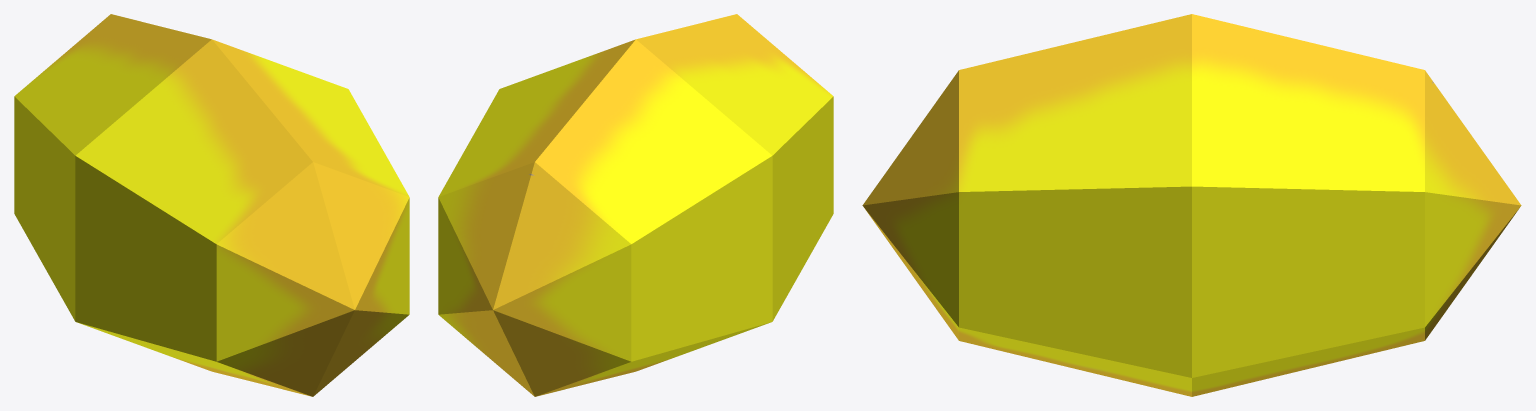
The model's file is AlbatorShootblend.fbx.
The picture shows the model from 3 angles, left to right: view 1: azimuth 30°, elevation 25°; view 2: azimuth 150°, elevation 25°; view 3: azimuth 270°, elevation 25°; orthographic projection. The views are drawn at different scales.
Visible parts, largest first — view 1: Sphere; view 2: Sphere; view 3: Sphere.
Part boxes in pixels (x1=…): Sphere: x1=14, y1=14, x2=409, y2=396; Sphere: x1=438, y1=14, x2=833, y2=396; Sphere: x1=862, y1=14, x2=1521, y2=396.
Size of the model in its own units: 110 by 128 by 200.
Materials: 1 (1 with a texture image).
